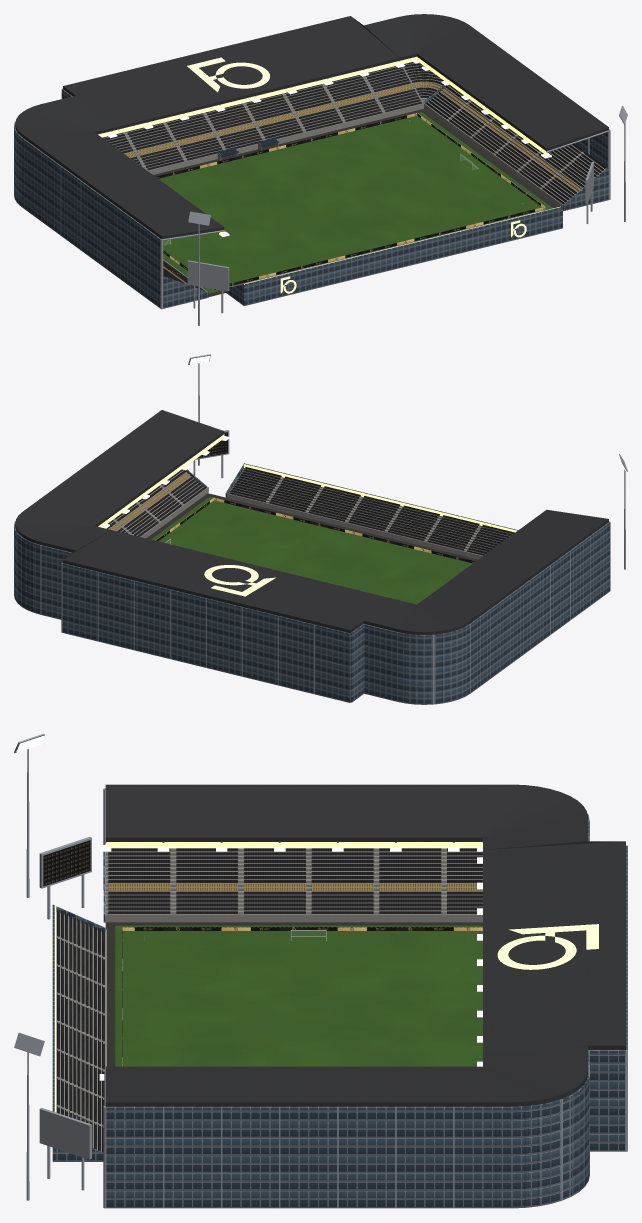
The model's file is terrain_L4.glb.
The picture shows the model from 3 angles, top to bottom: view 1: azimuth 30°, elevation 25°; view 2: azimuth 150°, elevation 25°; view 3: azimuth 270°, elevation 25°; orthographic projection. The views are drawn at different scales.
Parts seen in each view (by area): view 1: membrane_L4, pitch_L4_L4, facade_L4, seats_L4, concrete_L4, emissive_led_L4, steel_L4, seats_accent_L4, emissive_boards_L4, concrete_dark_L4, emissive_floodlights_L4; view 2: facade_L4, membrane_L4, pitch_L4_L4, seats_L4, concrete_L4, steel_L4, emissive_led_L4, concrete_dark_L4, emissive_boards_L4, seats_accent_L4; view 3: membrane_L4, facade_L4, pitch_L4_L4, seats_L4, concrete_L4, steel_L4, emissive_led_L4, concrete_dark_L4, seats_accent_L4, emissive_boards_L4, emissive_screen_L4, emissive_floodlights_L4.
Part boxes in pixels (bbox=[...]): membrane_L4: bbox=[15, 14, 608, 239]; pitch_L4_L4: bbox=[158, 112, 552, 293]; facade_L4: bbox=[14, 85, 609, 308]; seats_L4: bbox=[102, 62, 606, 290]; concrete_L4: bbox=[103, 63, 605, 291]; emissive_led_L4: bbox=[98, 56, 560, 293]; steel_L4: bbox=[21, 61, 627, 325]; seats_accent_L4: bbox=[125, 82, 581, 285]; emissive_boards_L4: bbox=[156, 113, 545, 289]; concrete_dark_L4: bbox=[153, 109, 557, 296]; emissive_floodlights_L4: bbox=[108, 60, 622, 236]; facade_L4: bbox=[14, 463, 609, 704]; membrane_L4: bbox=[15, 410, 608, 634]; pitch_L4_L4: bbox=[151, 497, 472, 604]; seats_L4: bbox=[106, 467, 514, 555]; concrete_L4: bbox=[108, 468, 512, 559]; steel_L4: bbox=[14, 354, 627, 704]; emissive_led_L4: bbox=[98, 434, 517, 596]; concrete_dark_L4: bbox=[146, 493, 477, 561]; emissive_boards_L4: bbox=[155, 497, 475, 563]; seats_accent_L4: bbox=[109, 472, 190, 530]; membrane_L4: bbox=[105, 784, 625, 1106]; facade_L4: bbox=[52, 813, 627, 1208]; pitch_L4_L4: bbox=[115, 925, 482, 1066]; seats_L4: bbox=[57, 848, 482, 1152]; concrete_L4: bbox=[56, 848, 482, 1151]; steel_L4: bbox=[14, 733, 627, 1208]; emissive_led_L4: bbox=[51, 842, 598, 1112]; concrete_dark_L4: bbox=[105, 922, 482, 1066]; seats_accent_L4: bbox=[108, 883, 482, 890]; emissive_boards_L4: bbox=[122, 927, 482, 1066]; emissive_screen_L4: bbox=[43, 840, 90, 886]; emissive_floodlights_L4: bbox=[16, 735, 482, 1080].
Size of the model in its own units: 156 by 36.82 by 127.
Materials: 17 (10 with a texture image).
